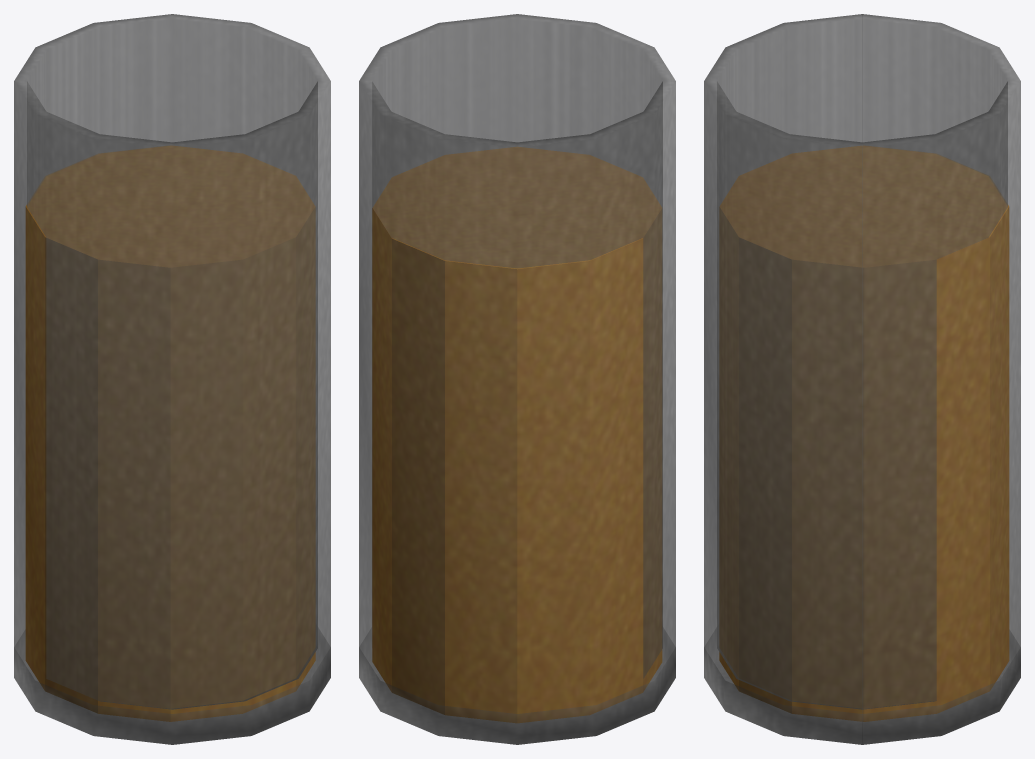
The model's file is glass_of_beer_02.obj.
3 renders of one model, left to right at view 1: azimuth 30°, elevation 25°; view 2: azimuth 150°, elevation 25°; view 3: azimuth 270°, elevation 25°, orthographic.
Visible parts, largest first — view 1: glass_of_beer.02; view 2: glass_of_beer.02; view 3: glass_of_beer.02.
Boxes of the visible parts, x1=… form: glass_of_beer.02: x1=14, y1=14, x2=330, y2=744; glass_of_beer.02: x1=359, y1=14, x2=675, y2=744; glass_of_beer.02: x1=704, y1=14, x2=1020, y2=744.
Size of the model in its own units: 0.0989 by 0.2058 by 0.0989.
